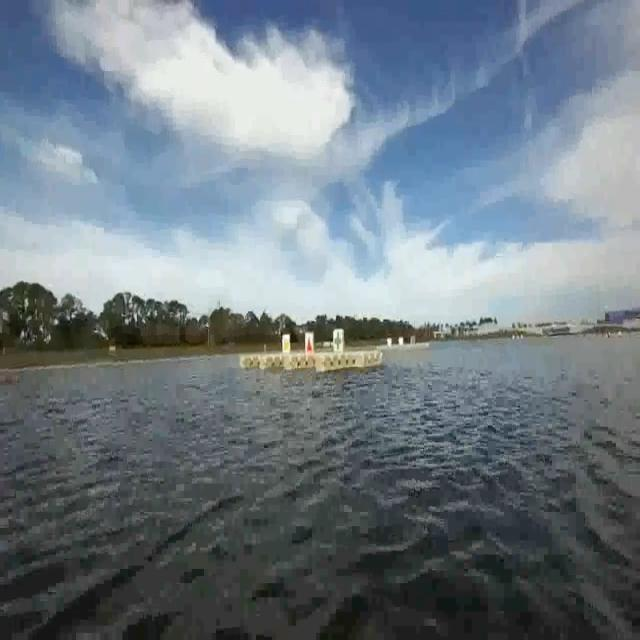blue-cross: (333, 332, 345, 358)
red-dot: (304, 332, 315, 356)
yellow-duck: (282, 334, 292, 356)
